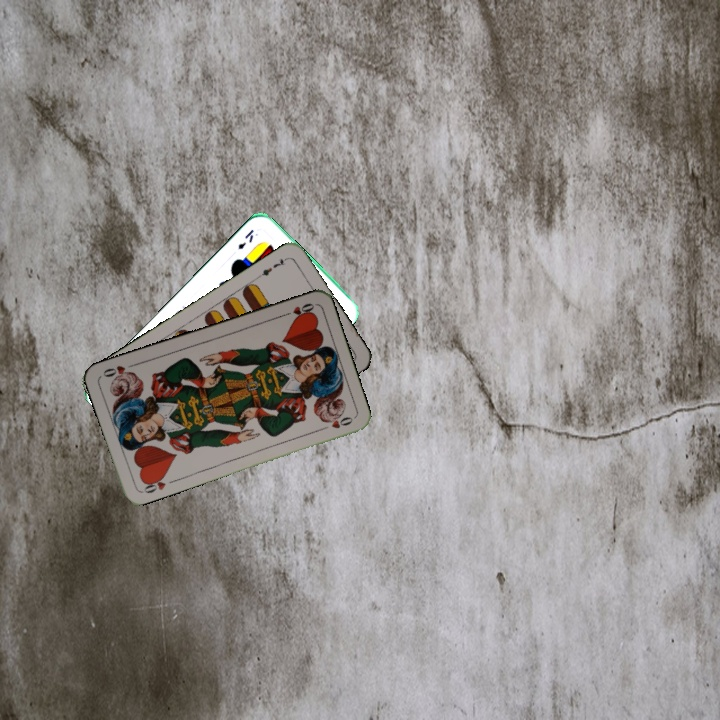E7: (254, 253, 290, 280)
EK: (234, 225, 256, 253)
HO: (278, 299, 317, 321), (138, 471, 169, 496)
